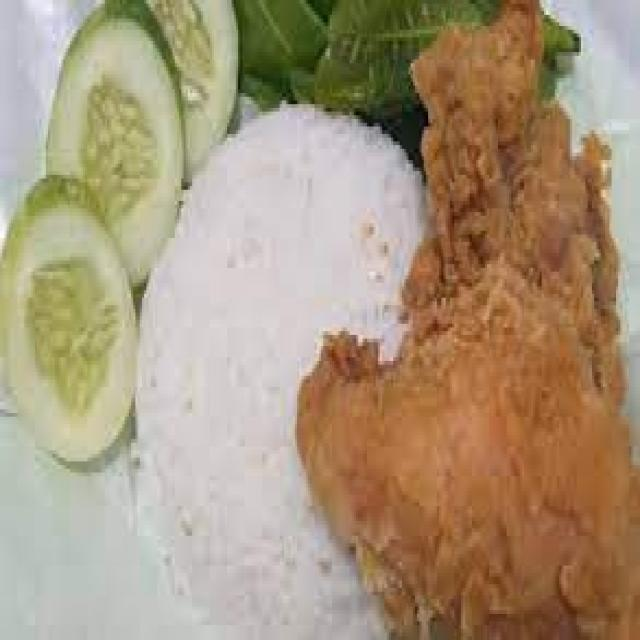Frango: (304, 8, 638, 638)
